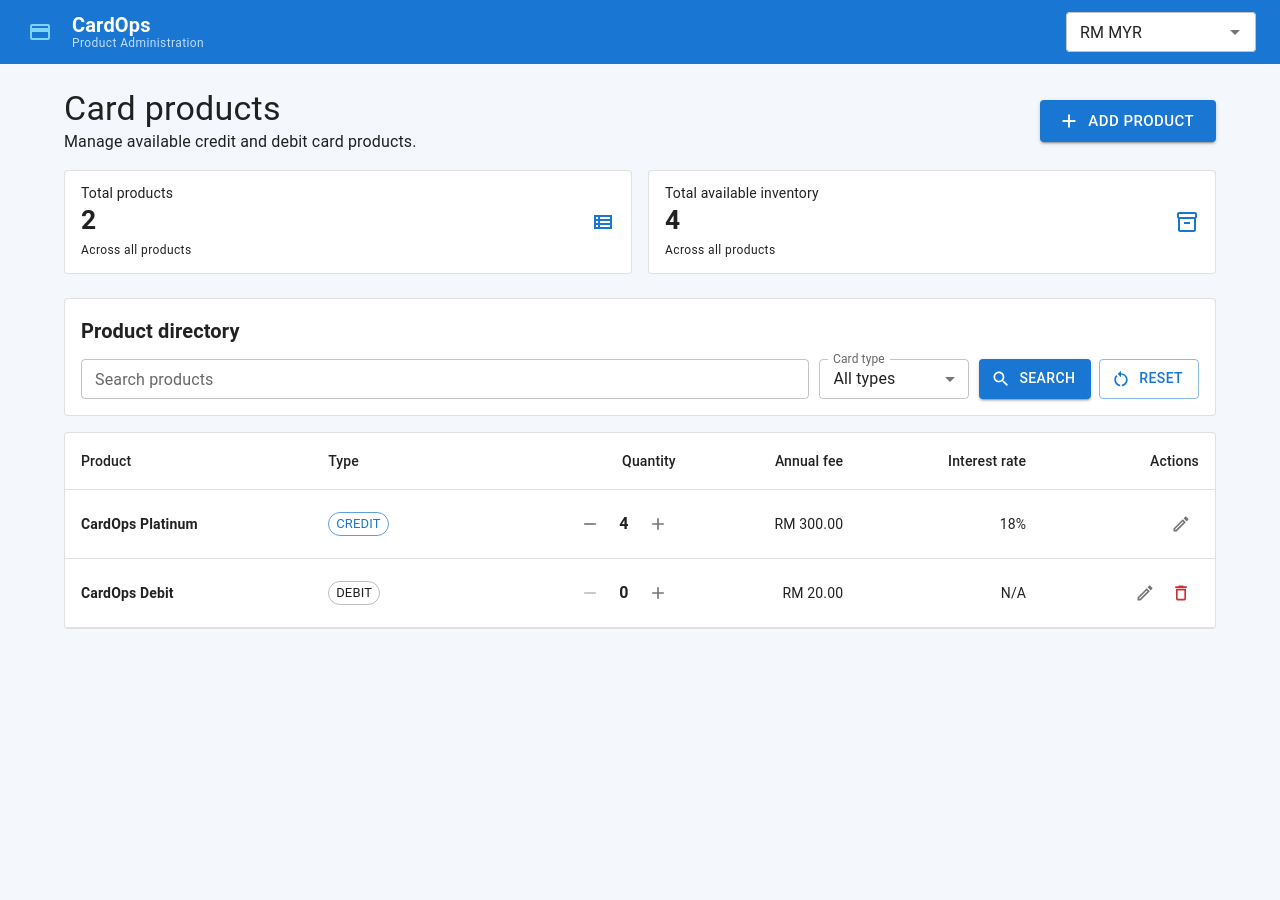
Test: App integration › uses a successfully retrieved rate for the selected display currency
Check: the text "CardOps Platinum" is shown, box [65,489,312,558]
Press the mouse on the dropdown with placeholder "Currency" at (1144, 32), box [1072,18,1217,46]
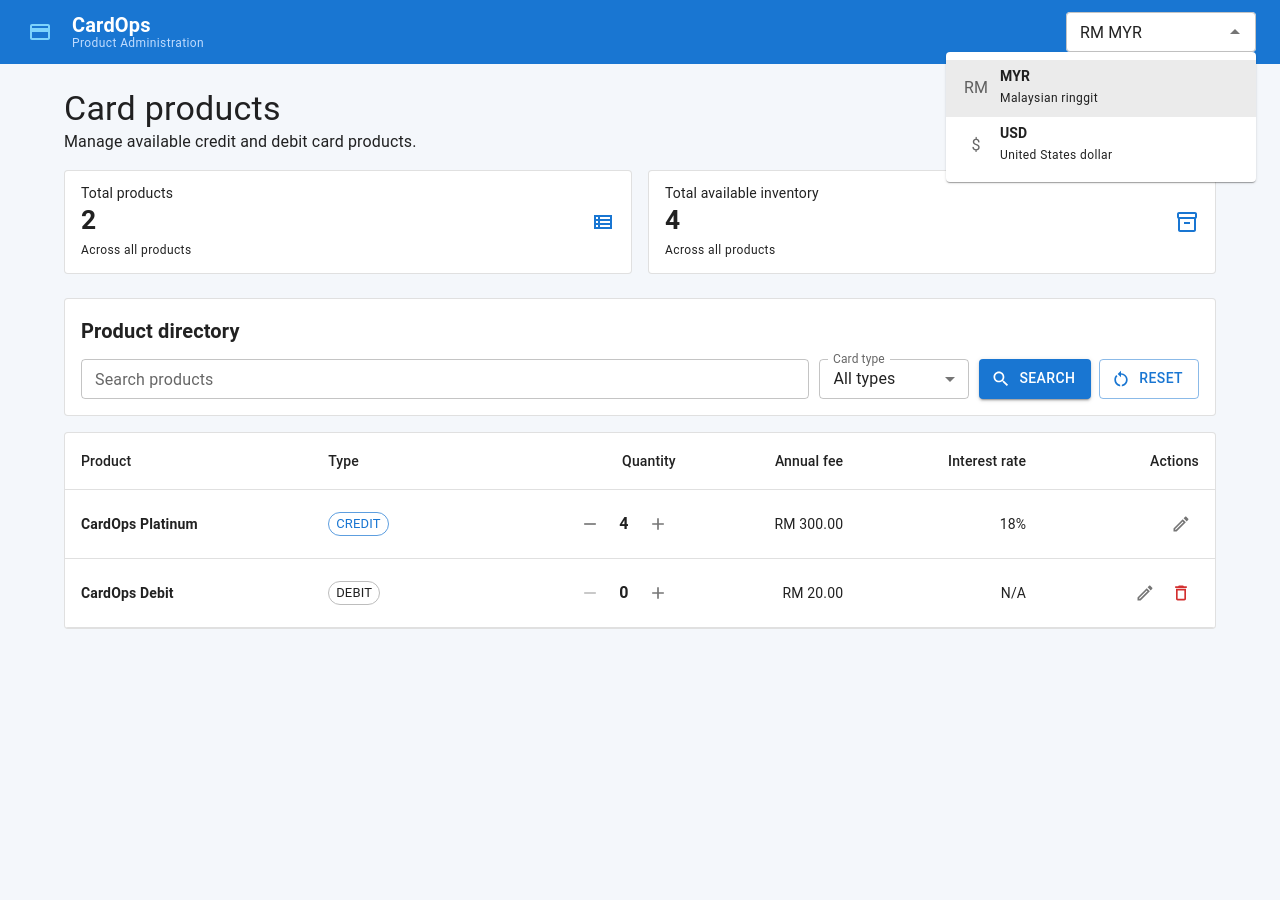
Click the option with aria-label "$ USD, United States dollar" at (1056, 155), box [971,125,1112,162]
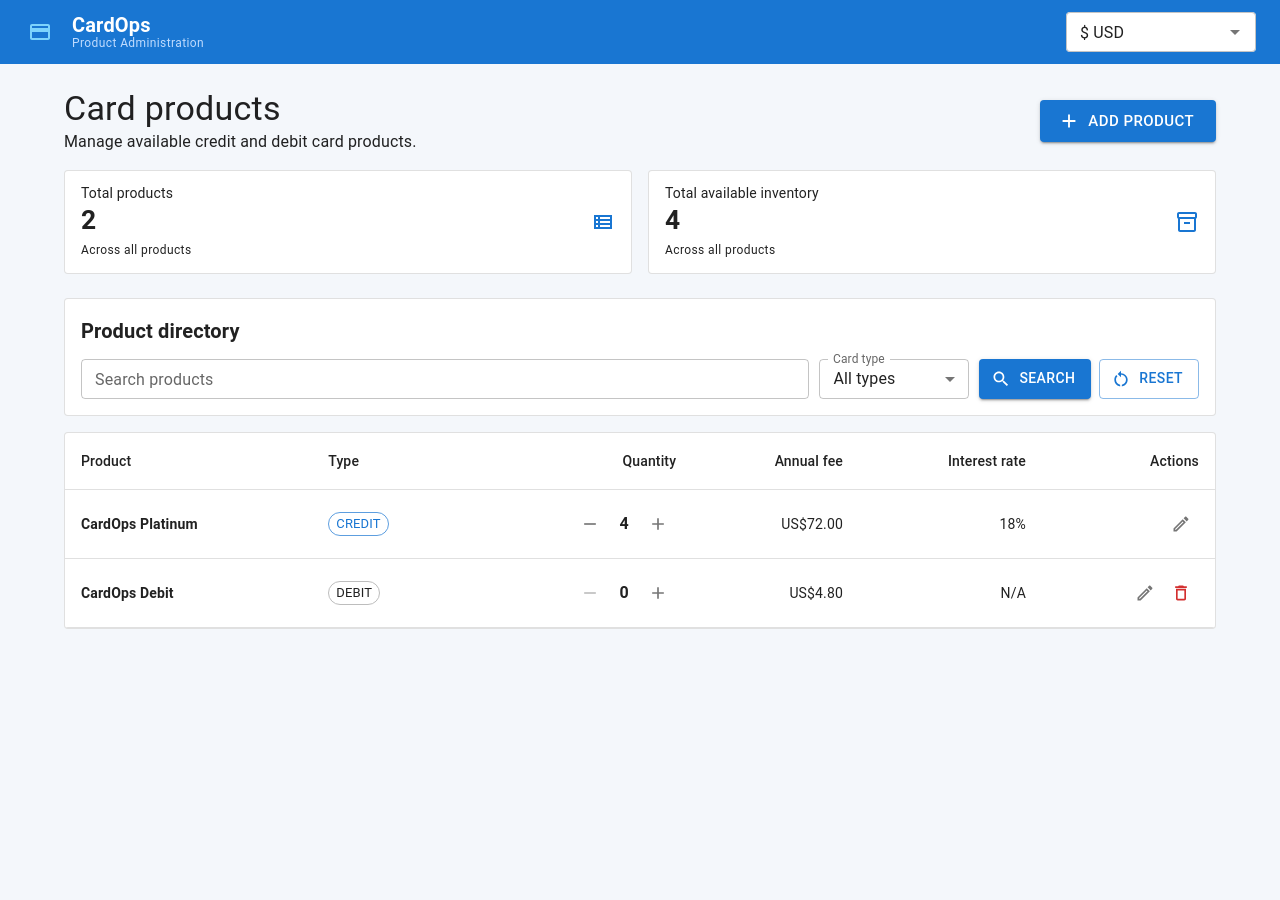
Check: the dropdown with placeholder "Currency" holds "$ USD", box [1072,18,1217,46]
